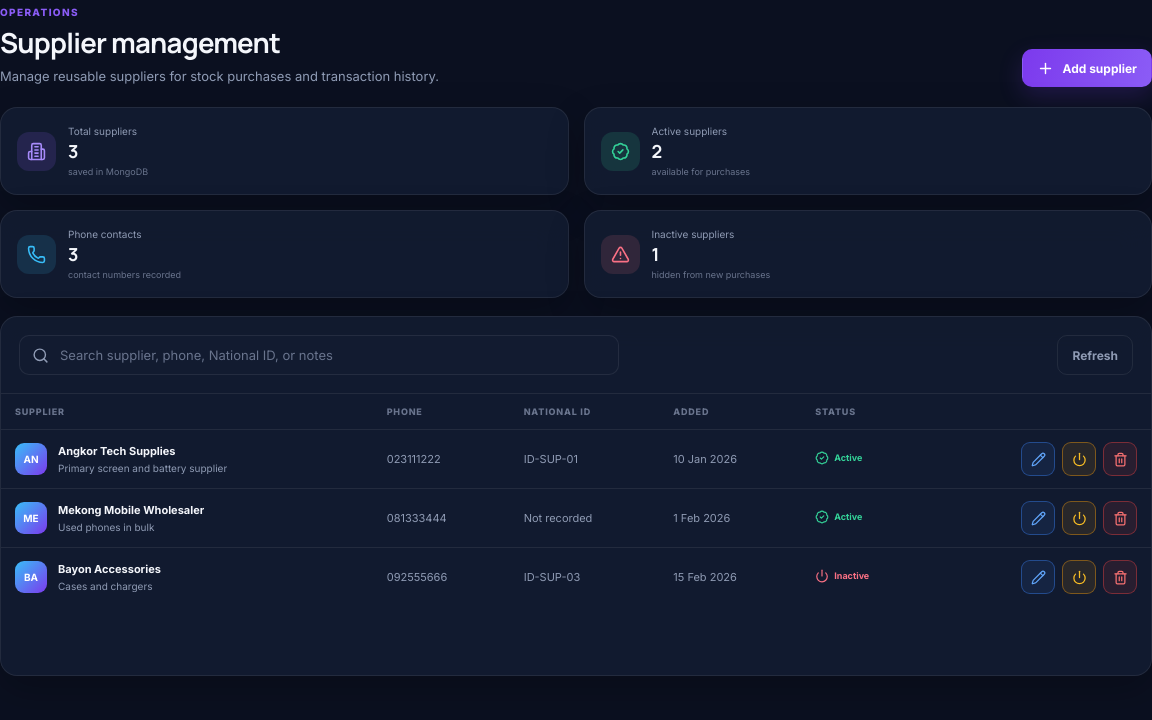
Test: SupplierWorkspace Regression & Workflow Tests › 8. Supplier deletion: cancellation performs no deletion
This screenshot has width=1152, height=720.
Expected: the text "Mekong Mobile Wholesaler" is shown, [58,503,204,517]
Click the button named "Delete Mekong Mobile Wholesaler": (1120, 518) [1103,501,1137,535]
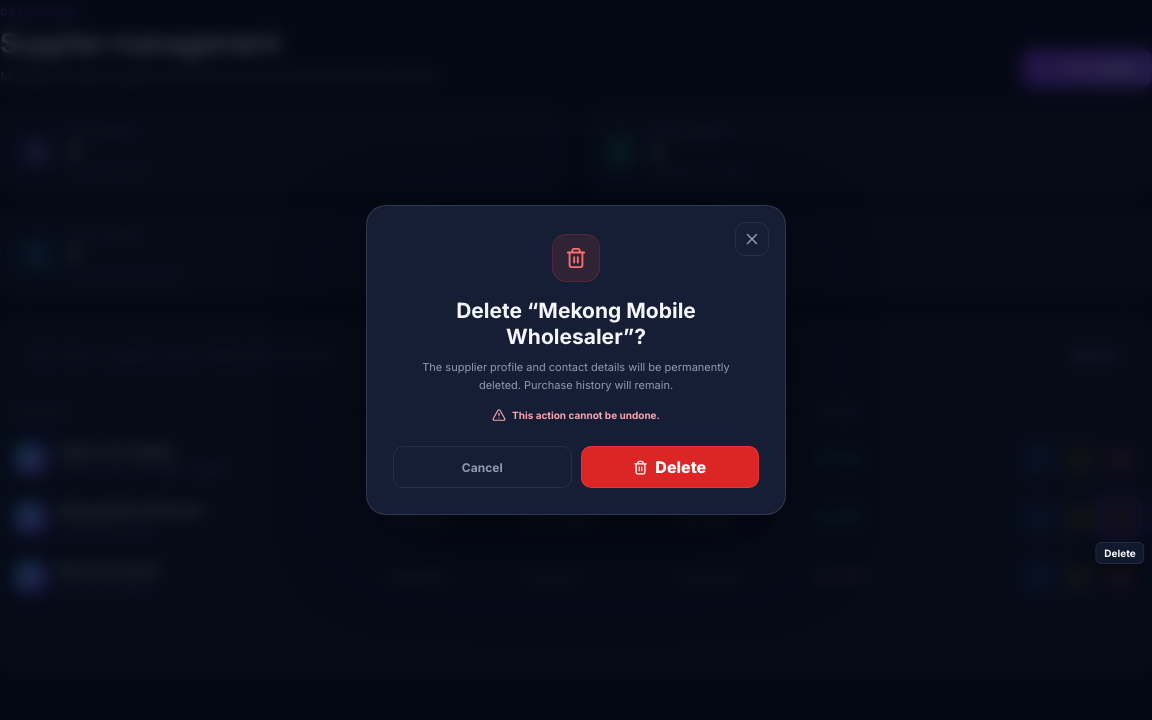
Result: the dialog is shown at [366,205,786,515]
Click the button "Cancel": (482, 467) [393,446,572,488]
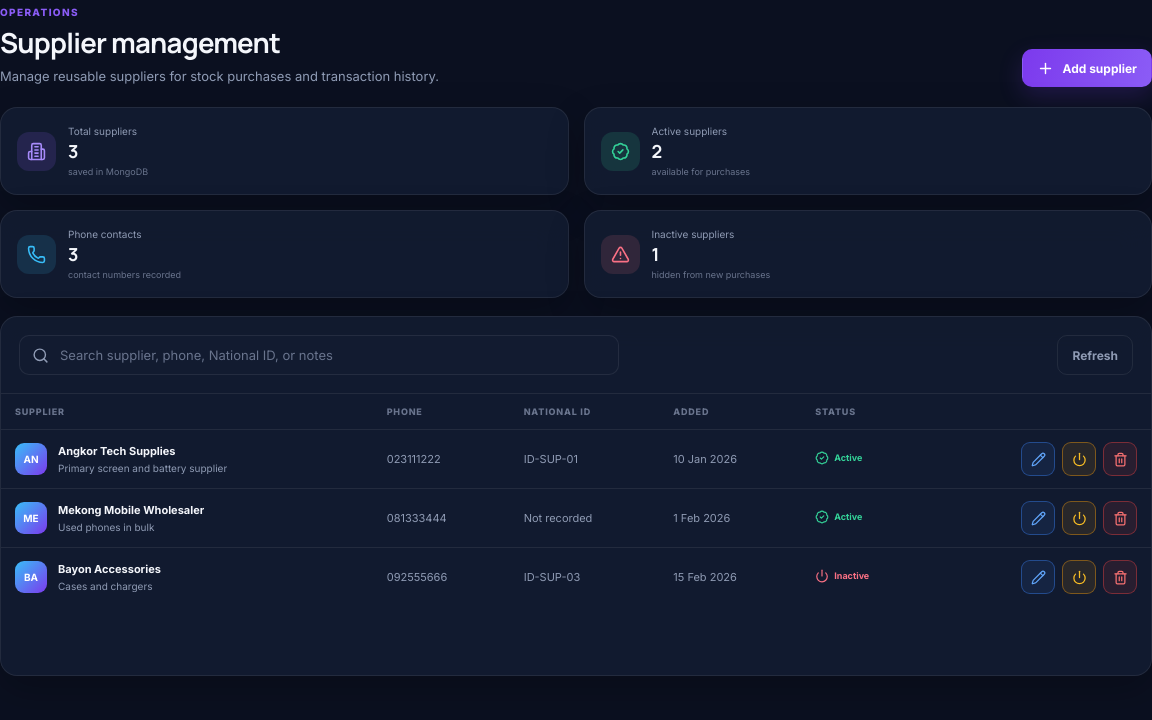
Expected: the text "Mekong Mobile Wholesaler" is shown, [58,503,204,517]
Result: the dialog is gone
